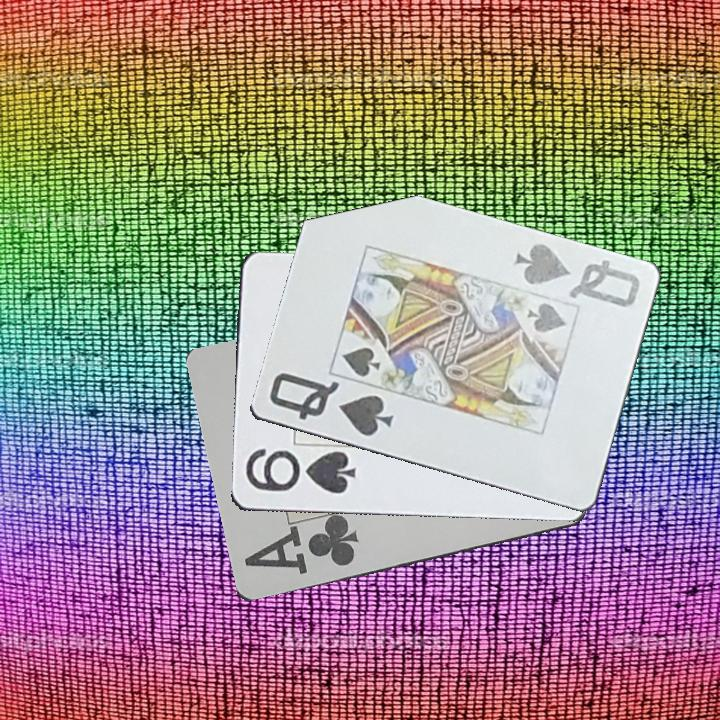6s: (241, 448, 358, 497)
Ac: (240, 515, 362, 578)
Qs: (511, 240, 643, 311), (265, 369, 396, 440)
